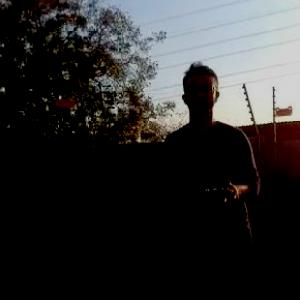follow: (154, 52, 269, 299)
